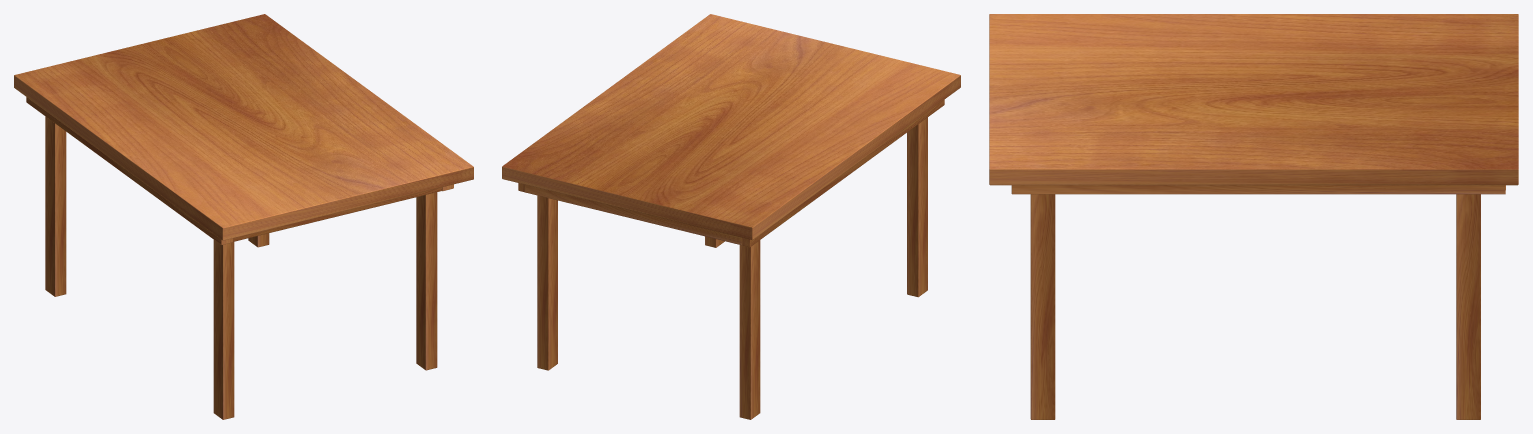
File: try_models.glb
3 views of the same model, side by side, from view 1: azimuth 30°, elevation 25°; view 2: azimuth 150°, elevation 25°; view 3: azimuth 270°, elevation 25° (orthographic). The views are drawn at different scales.
Visible parts, largest first — view 1: Table; view 2: Table; view 3: Table.
Part boxes in pixels (left/top/right/bottom): Table: left=14, top=14, right=473, bottom=419; Table: left=502, top=14, right=960, bottom=419; Table: left=989, top=14, right=1518, bottom=419.
Size of the model in its own units: 1.21 by 0.9587 by 1.74.
Materials: 1 (1 with a texture image).
